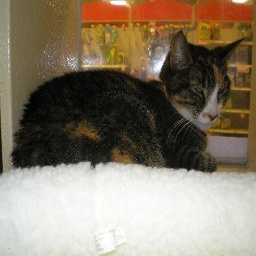cat: (11, 32, 242, 173)
